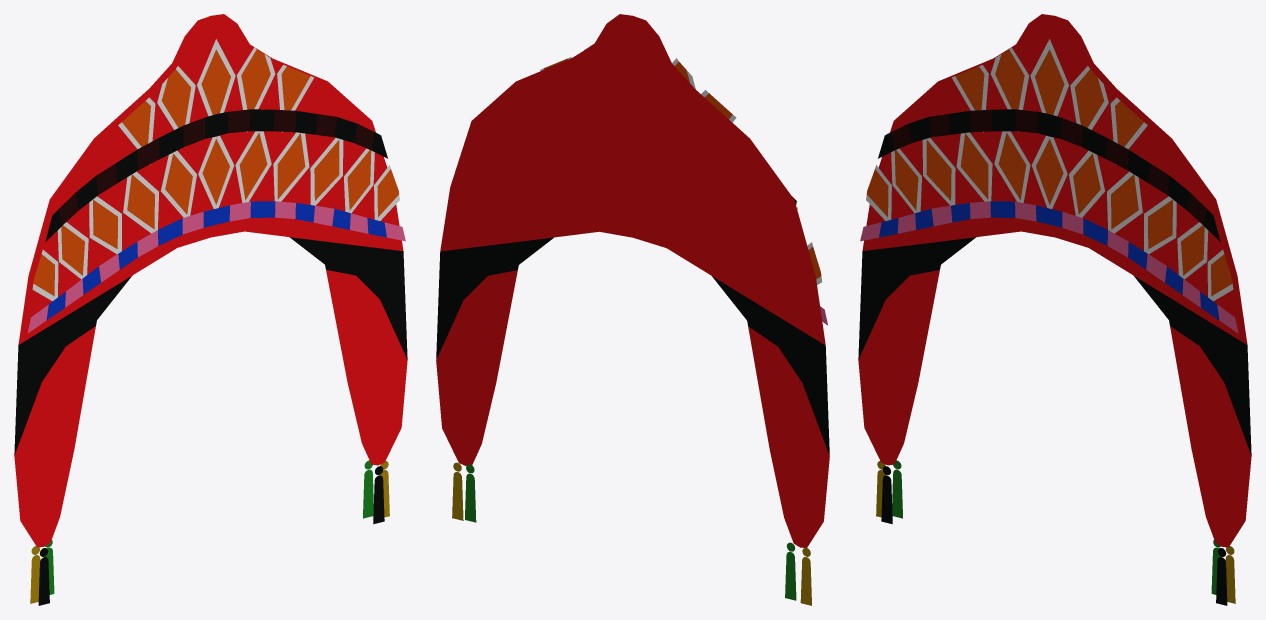
File: Face_voice_Chullo_STM.fbx
3 views of the same model, side by side, from view 1: azimuth 30°, elevation 25°; view 2: azimuth 150°, elevation 25°; view 3: azimuth 330°, elevation 25° (orthographic).
Visible parts, largest first — view 1: Chullo; view 2: Chullo; view 3: Chullo.
Part boxes in pixels (box(x1,y1,x2,y2)): Chullo: box(14, 14, 407, 605); Chullo: box(436, 14, 829, 605); Chullo: box(858, 14, 1251, 605).
Bounding box in the file's own units: 50.48 × 67.17 × 1.79.
